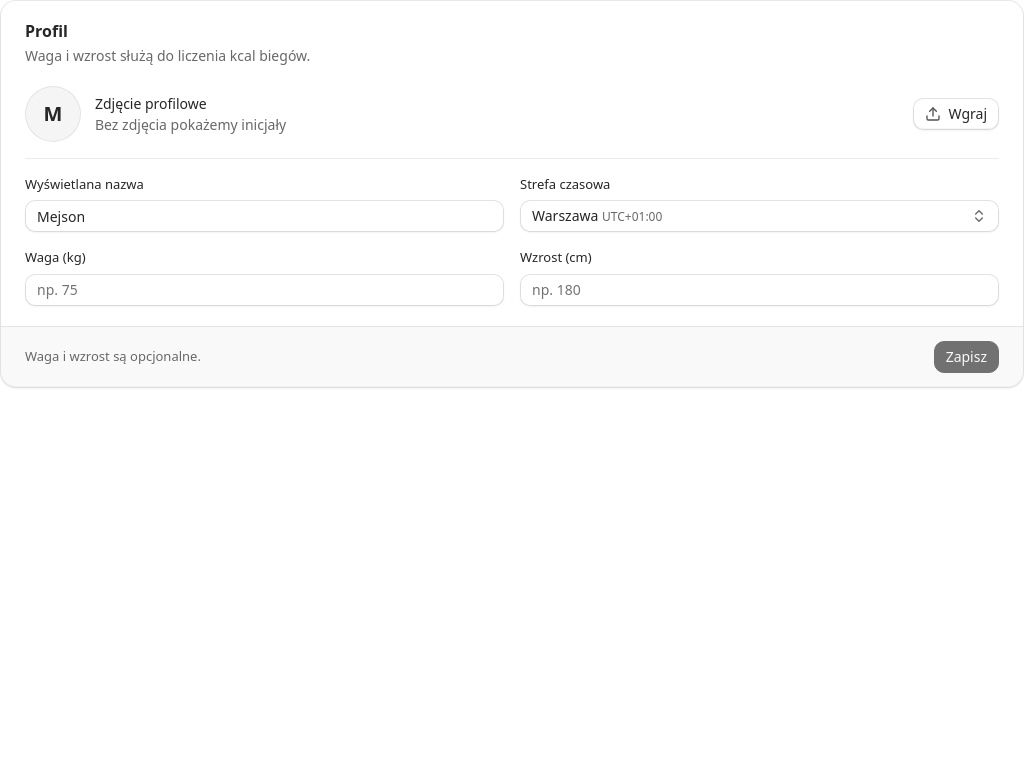
ProfileCard › zmiana strefy włącza zapis
Click the button with aria-label "Strefa czasowa": {"x": 565, "y": 216} [520,200,999,232]
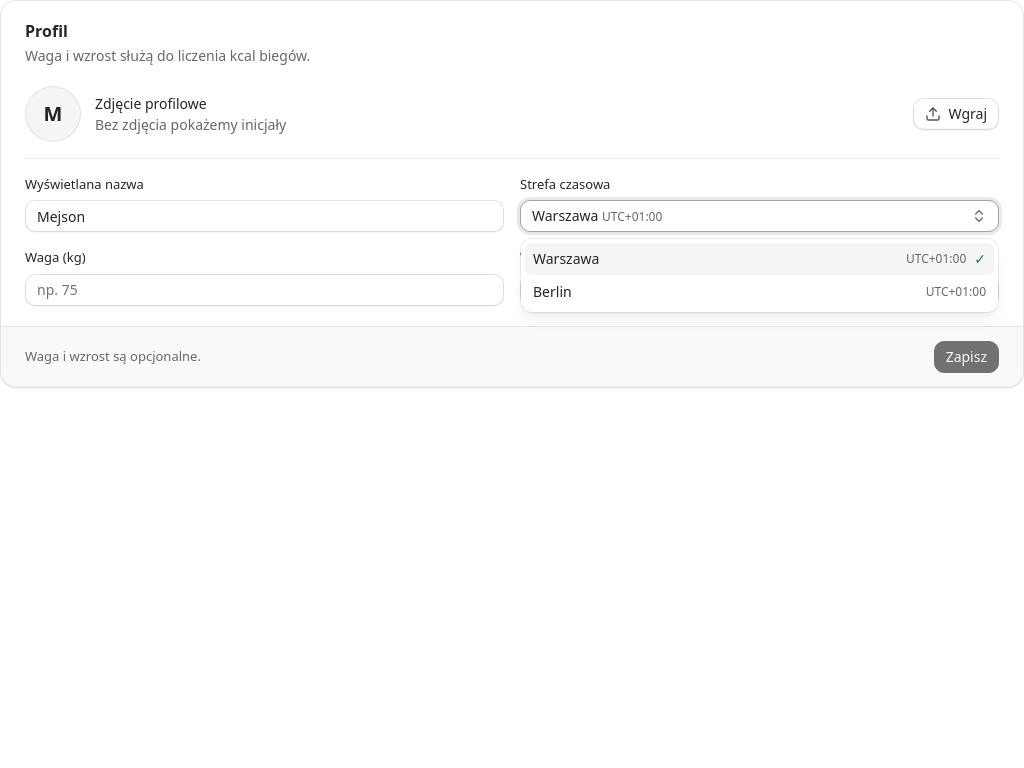
Click the option "Berlin UTC+01:00": {"x": 552, "y": 292} [533,282,986,301]
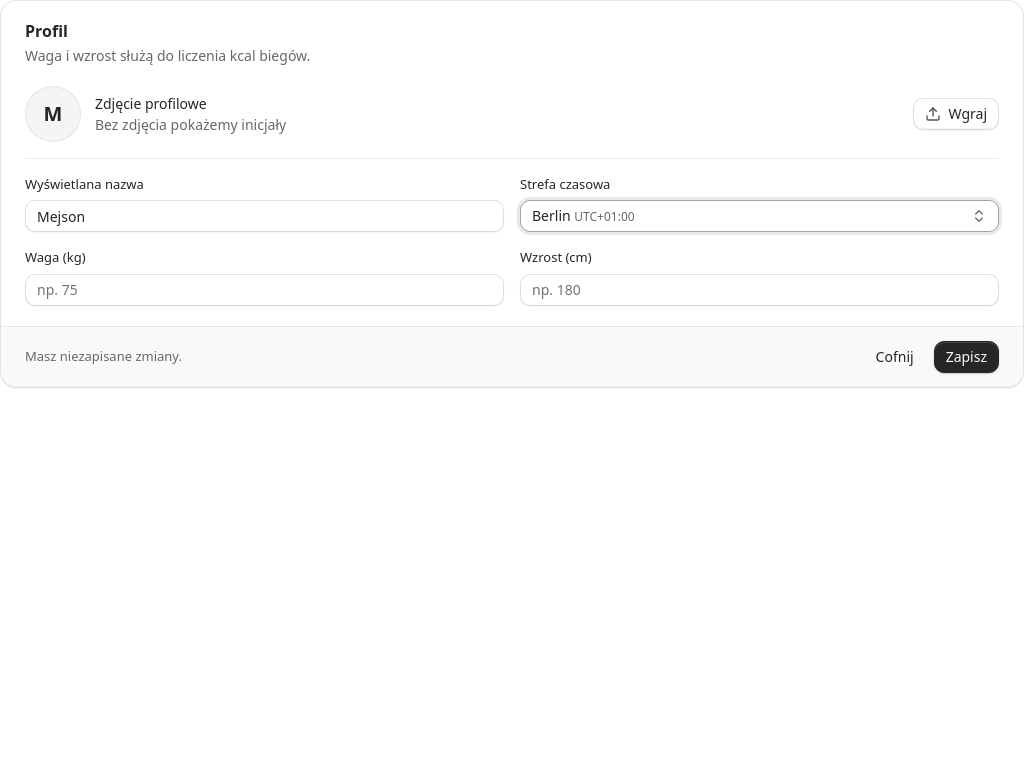
Expected: the button "Zapisz" is enabled, [934,341,999,373]
